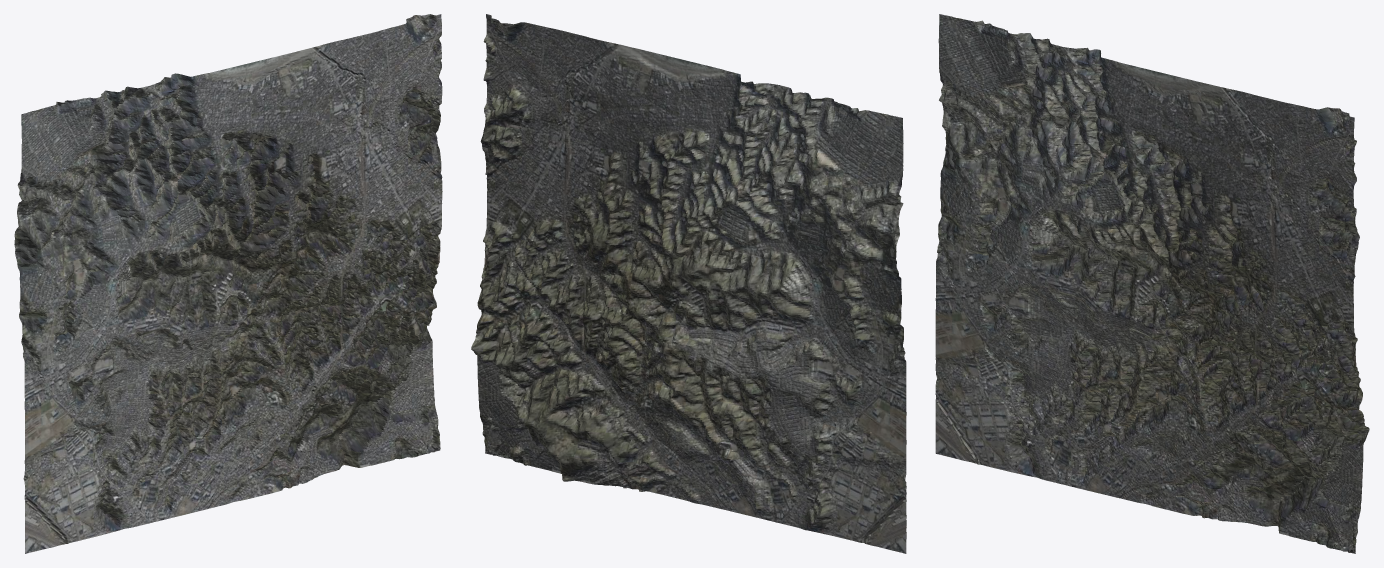
Rendered from kamakura.glb.
The picture shows the model from 3 angles, left to right: view 1: azimuth 30°, elevation 25°; view 2: azimuth 150°, elevation 25°; view 3: azimuth 330°, elevation 25°; orthographic projection.
Visible parts, largest first — view 1: dem; view 2: dem; view 3: dem.
Part boxes in pixels (box(x1,y1,x2,y2)): dem: box(14, 14, 442, 553); dem: box(471, 14, 906, 553); dem: box(935, 14, 1369, 553).
Bounding box in the file's own units: 149 × 149 × 11.
1 material, 1 textured.
